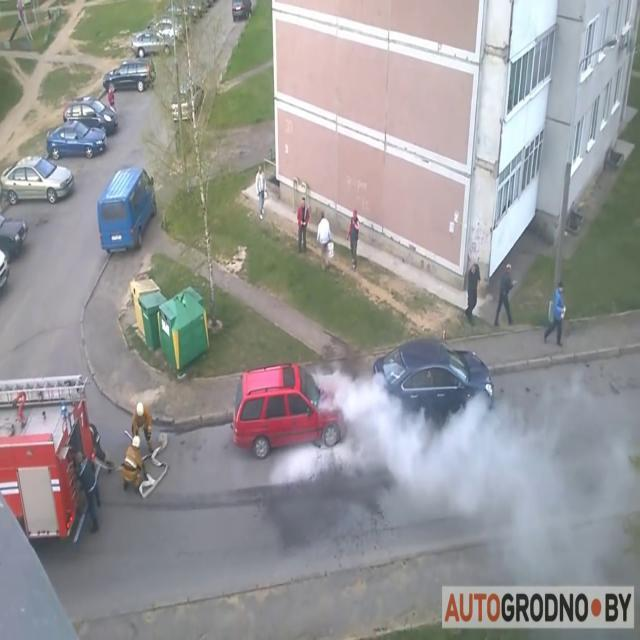Smoke: (301, 343, 640, 518)
